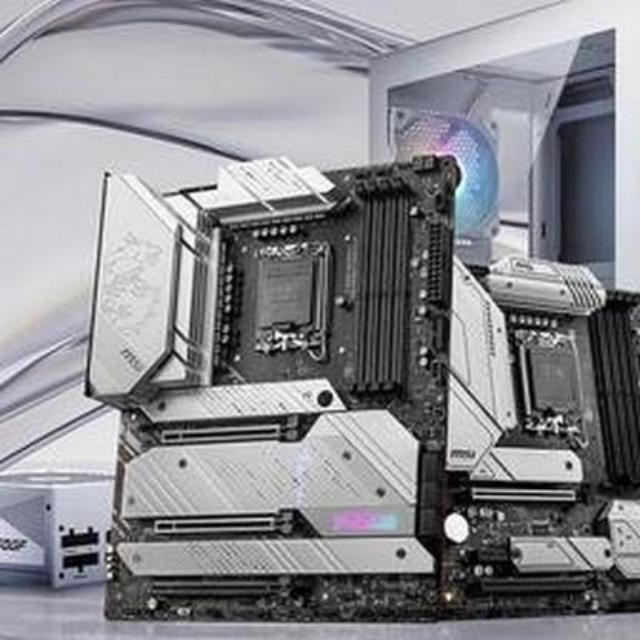Mainboard: (96, 156, 441, 627), (423, 256, 640, 622)
